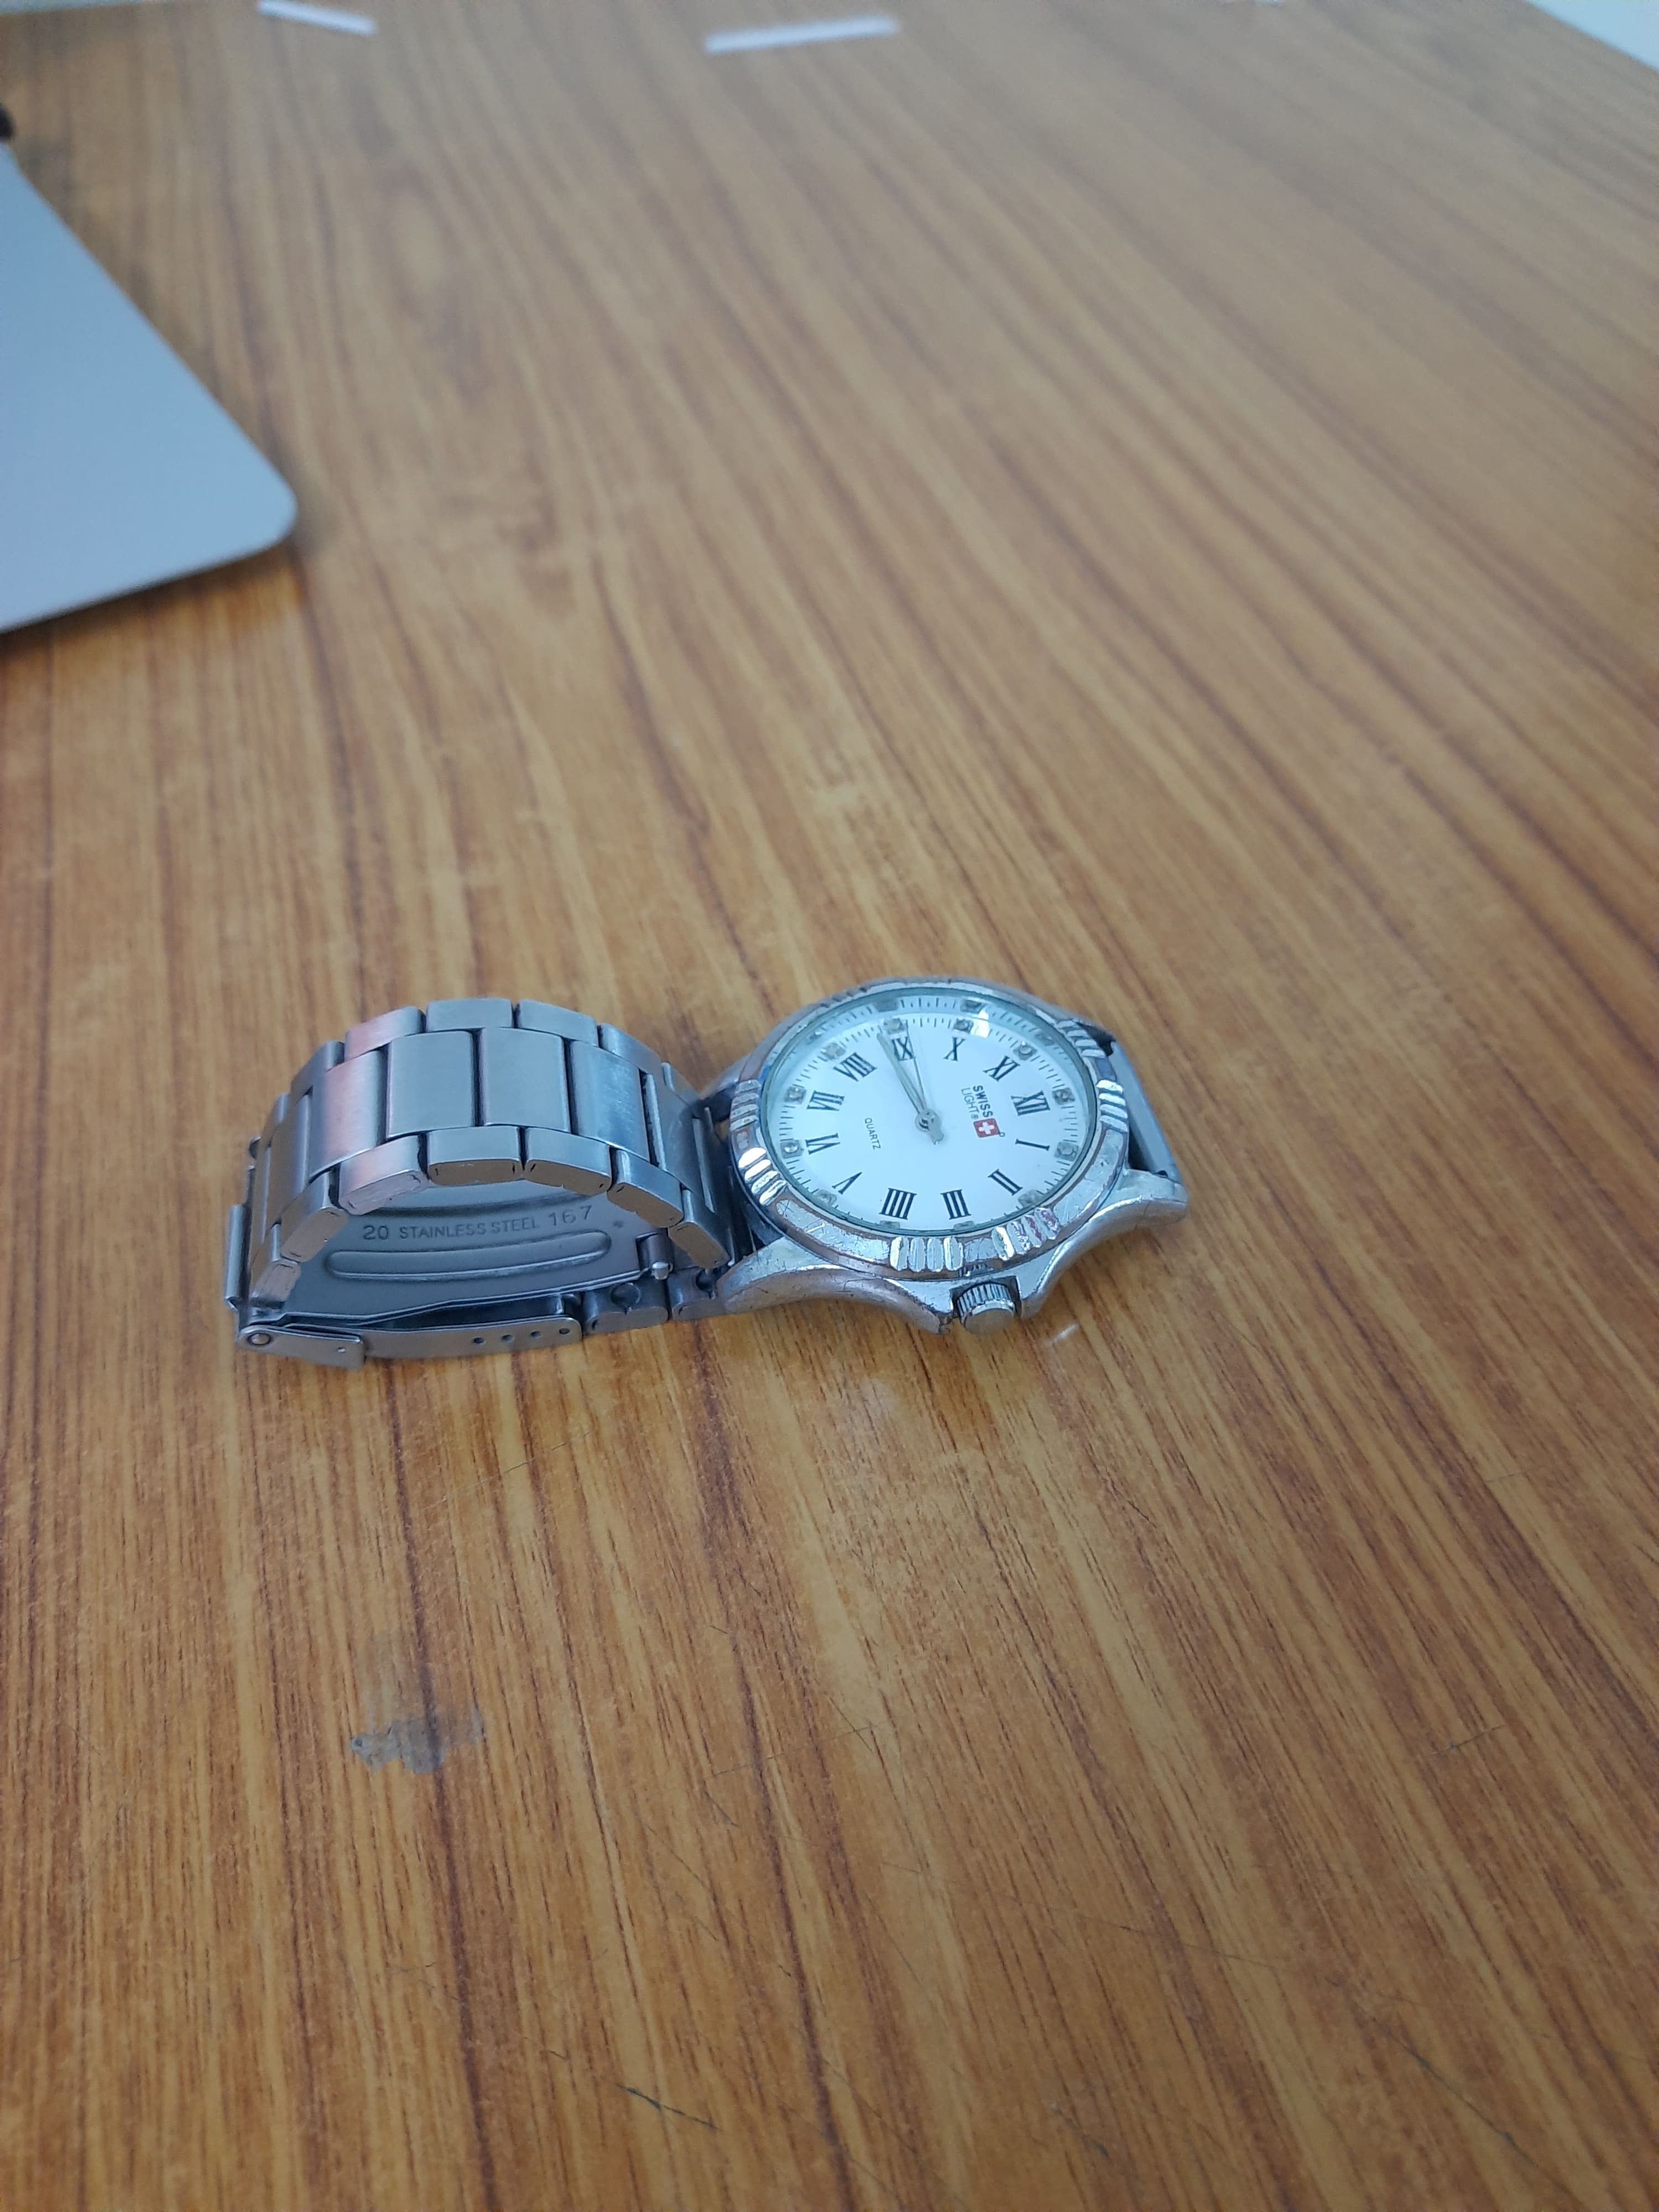Vikash's Watch: (195, 956, 1204, 1430)
